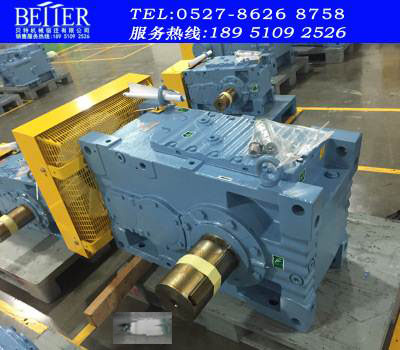oil: (113, 314, 173, 344)
